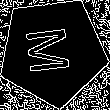M_E: (25, 25, 80, 78)
